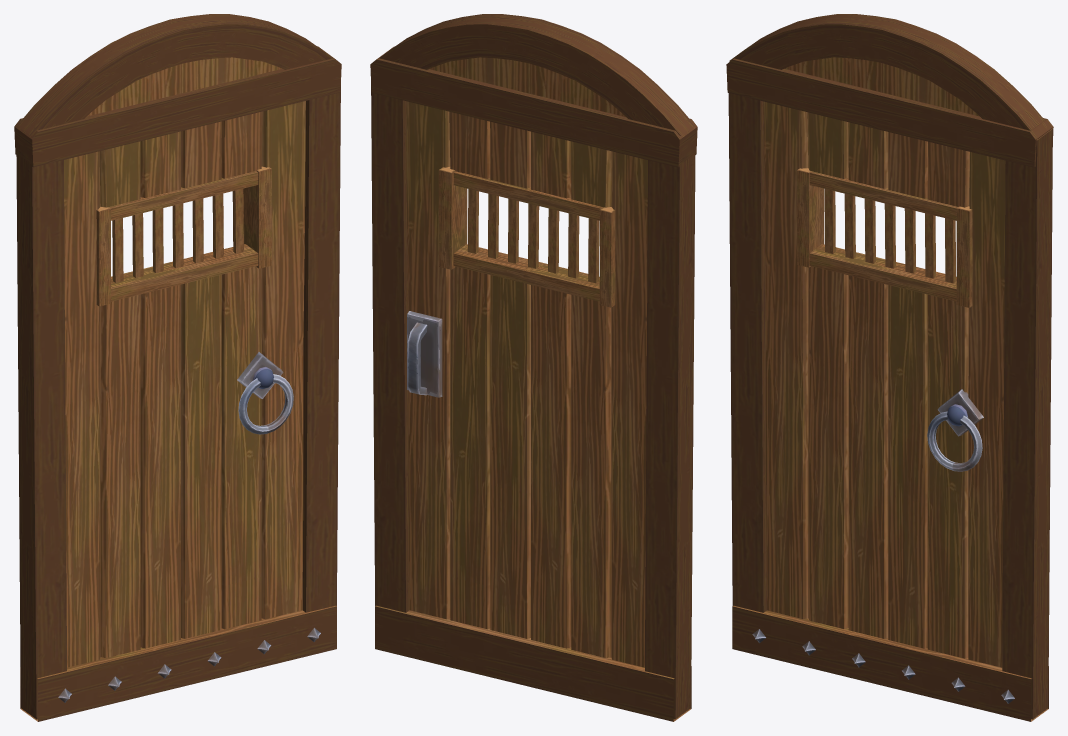
File: Door_8_Round.glb
The picture shows the model from 3 angles, left to right: view 1: azimuth 30°, elevation 25°; view 2: azimuth 150°, elevation 25°; view 3: azimuth 330°, elevation 25°; orthographic projection.
Visible parts, largest first — view 1: Door_8_Round; view 2: Door_8_Round; view 3: Door_8_Round.
Part boxes in pixels (box(x1,y1,x2,y2)): Door_8_Round: box(14, 14, 341, 721); Door_8_Round: box(370, 14, 697, 721); Door_8_Round: box(726, 14, 1053, 721).
Size of the model in its own units: 1.15 by 2.32 by 0.1994.
2 materials, 2 textured.
